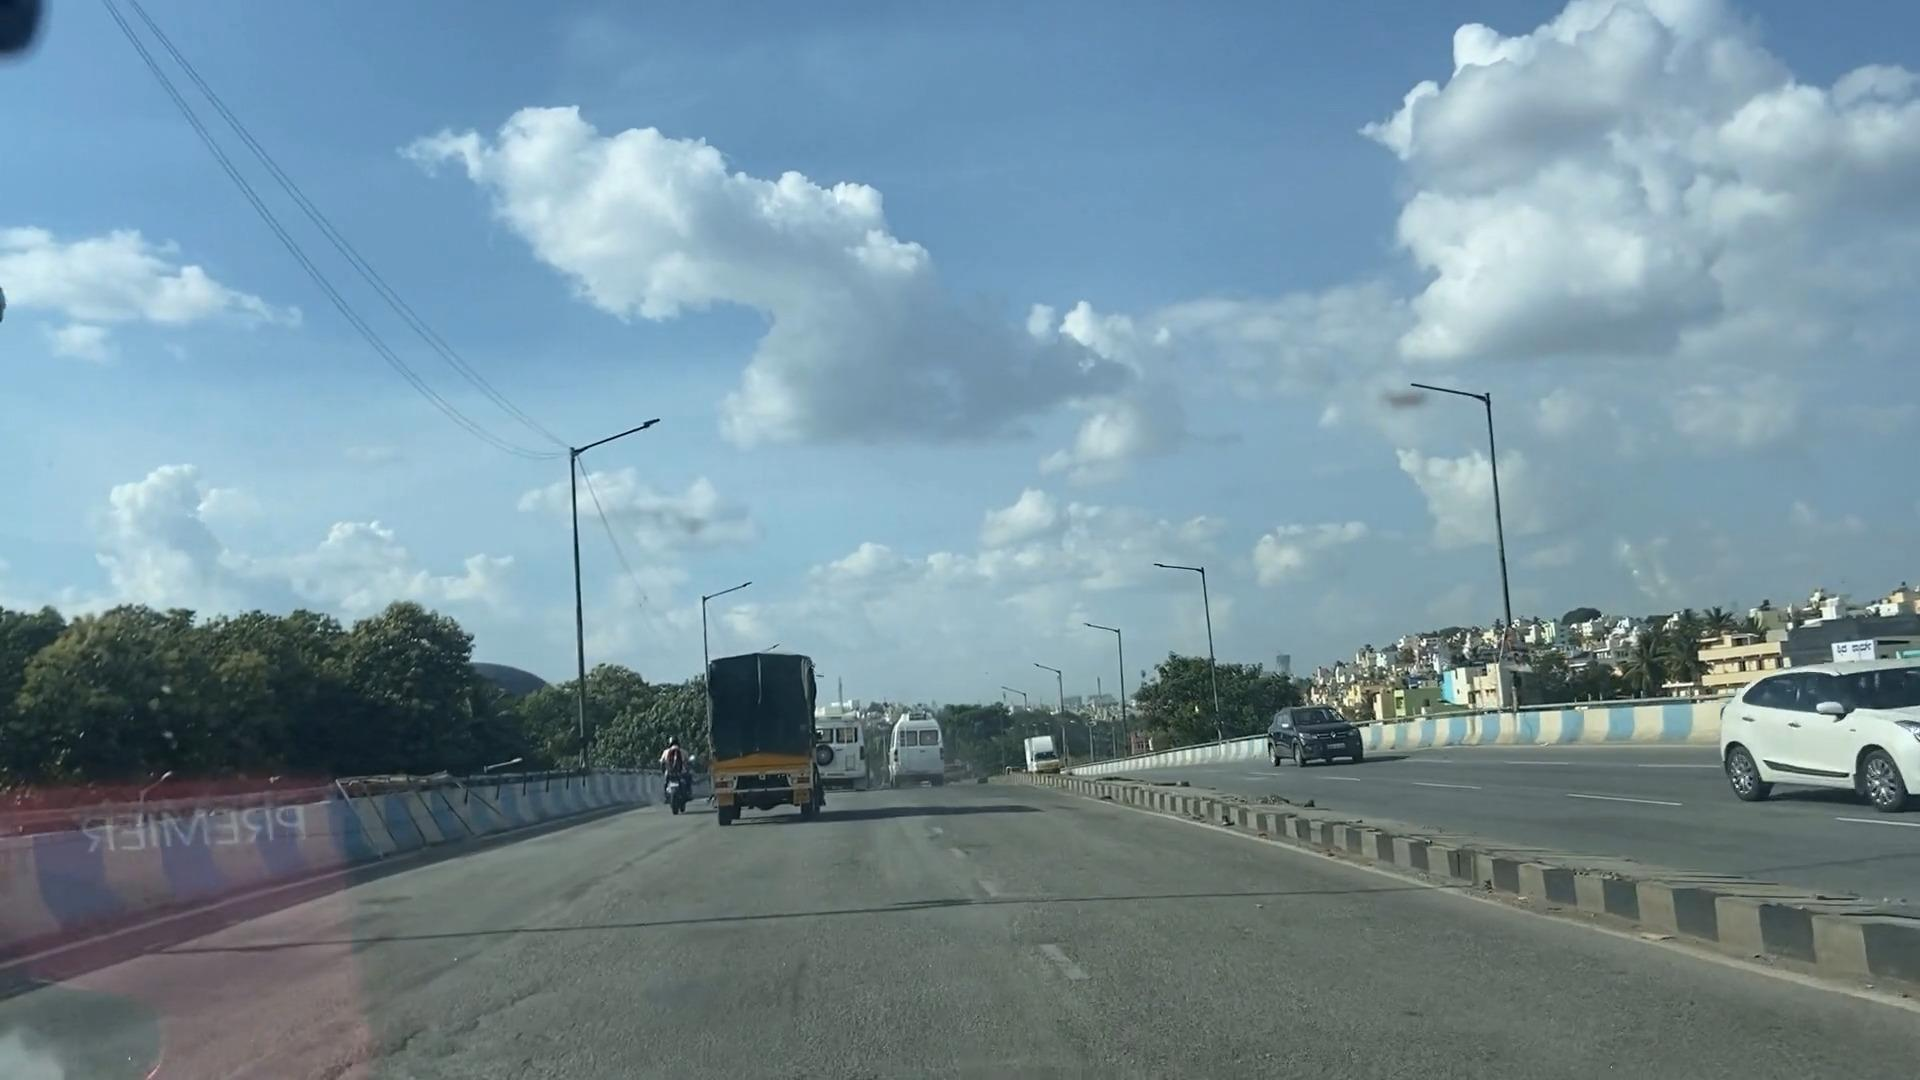HMV: (700, 646, 838, 824)
LMV: (652, 726, 702, 815)
RoadDamages: (300, 934, 679, 1069)
